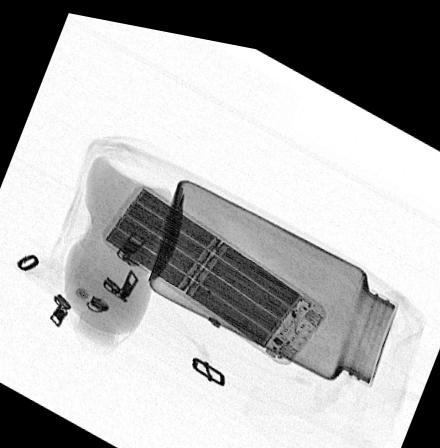Powerbank: (100, 178, 327, 354)
